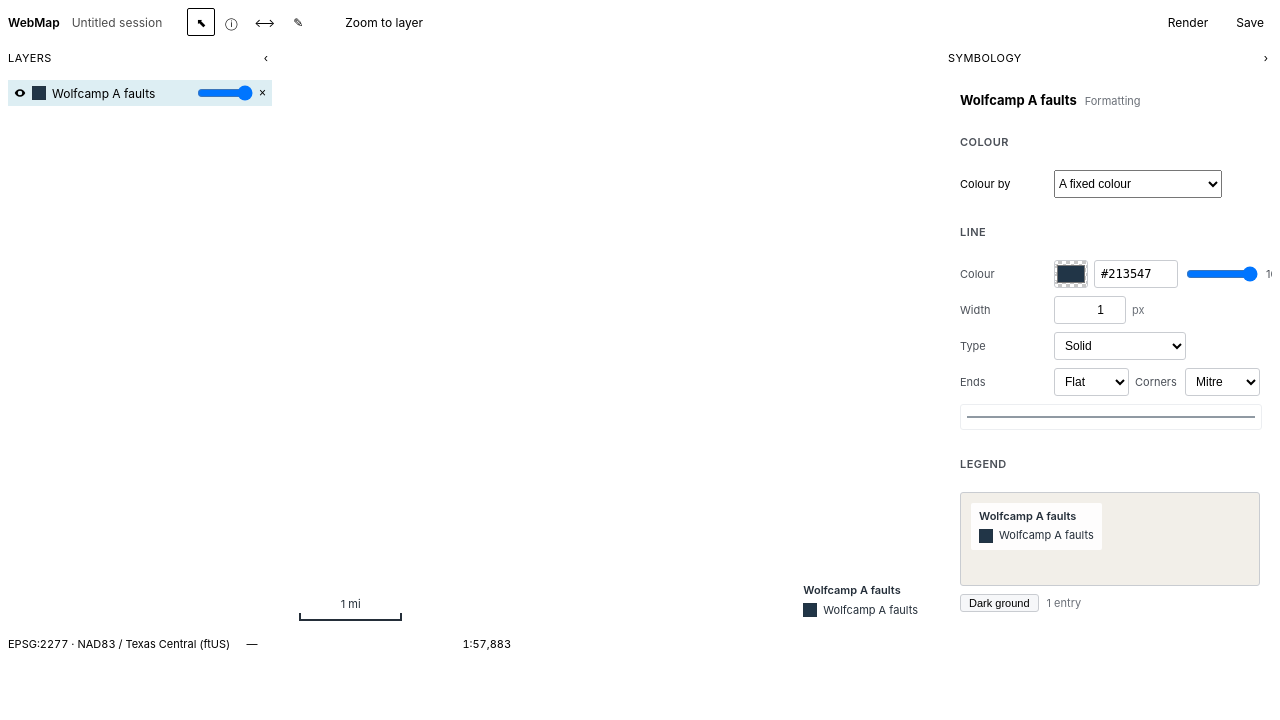
Test: the editing surfaces › shows the edit toolbar and status strip once it is
Click the radio button named "Edit" at {"x": 298, "y": 22}, box x1=284 y1=8 x2=312 y2=36
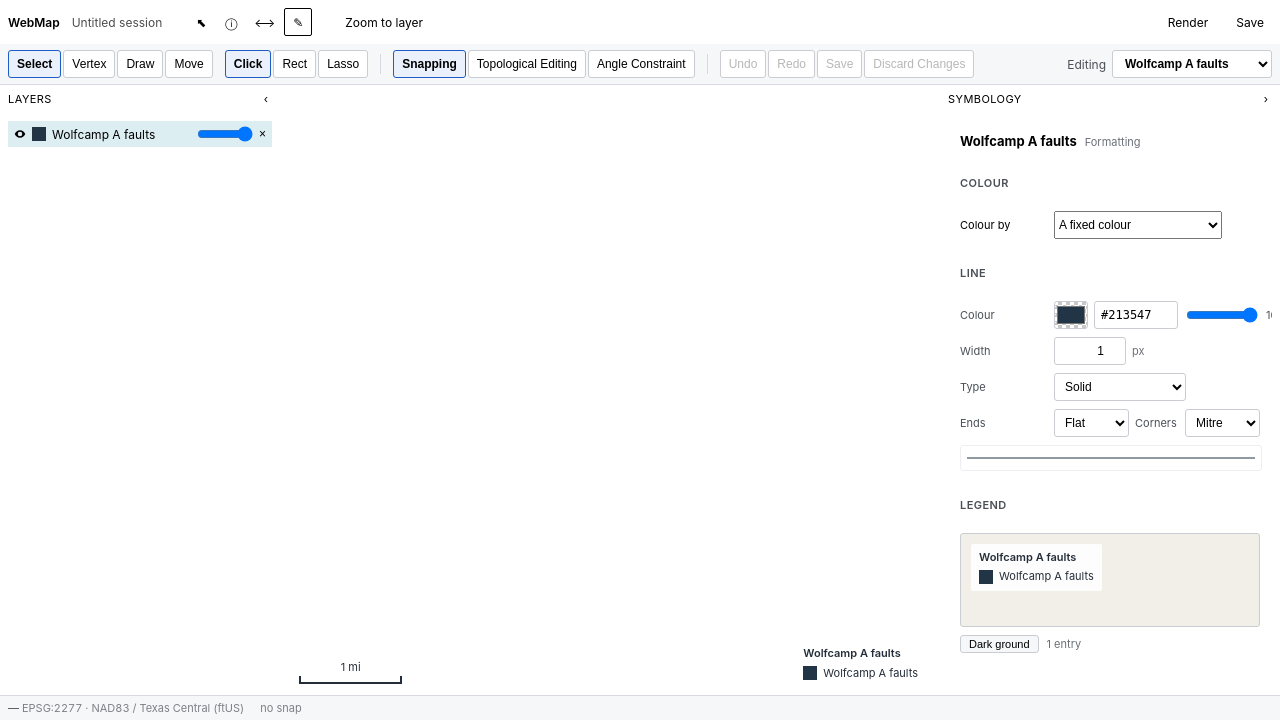
Expected: the element named "Editing tools" is shown, x1=0 y1=44 x2=1279 y2=85
Expected: the message named "Editing status" is shown, x1=0 y1=695 x2=1279 y2=719
